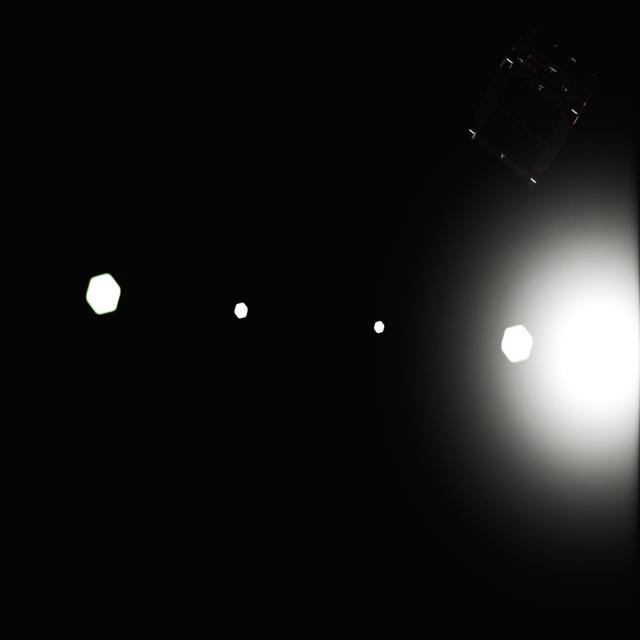medium_debris: (458, 28, 602, 186)
